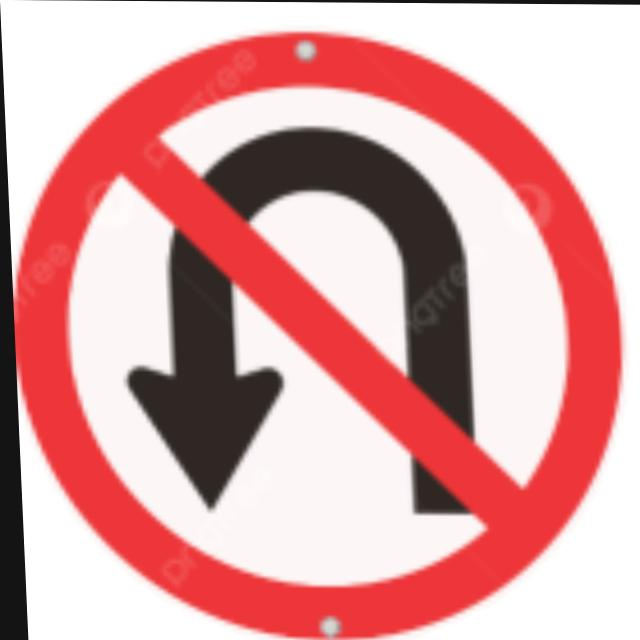not_u_turn_left: (2, 14, 620, 640)
